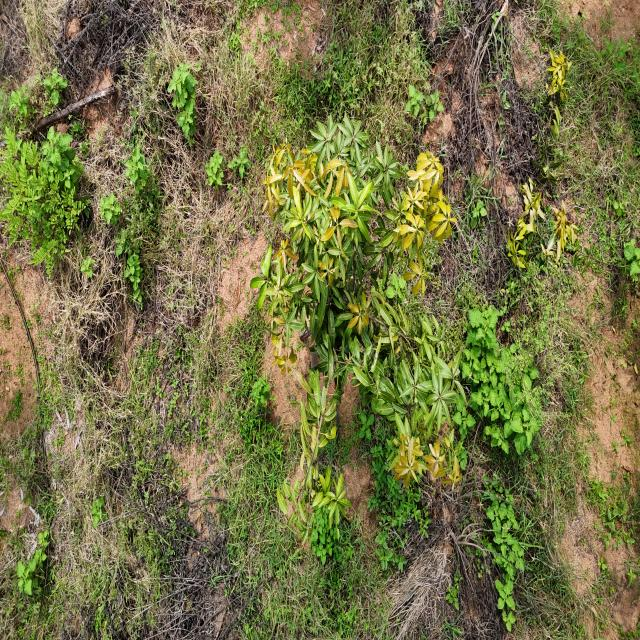mangoTree: (249, 113, 470, 528)
notMangoTree: (0, 109, 93, 278), (474, 304, 544, 461)
